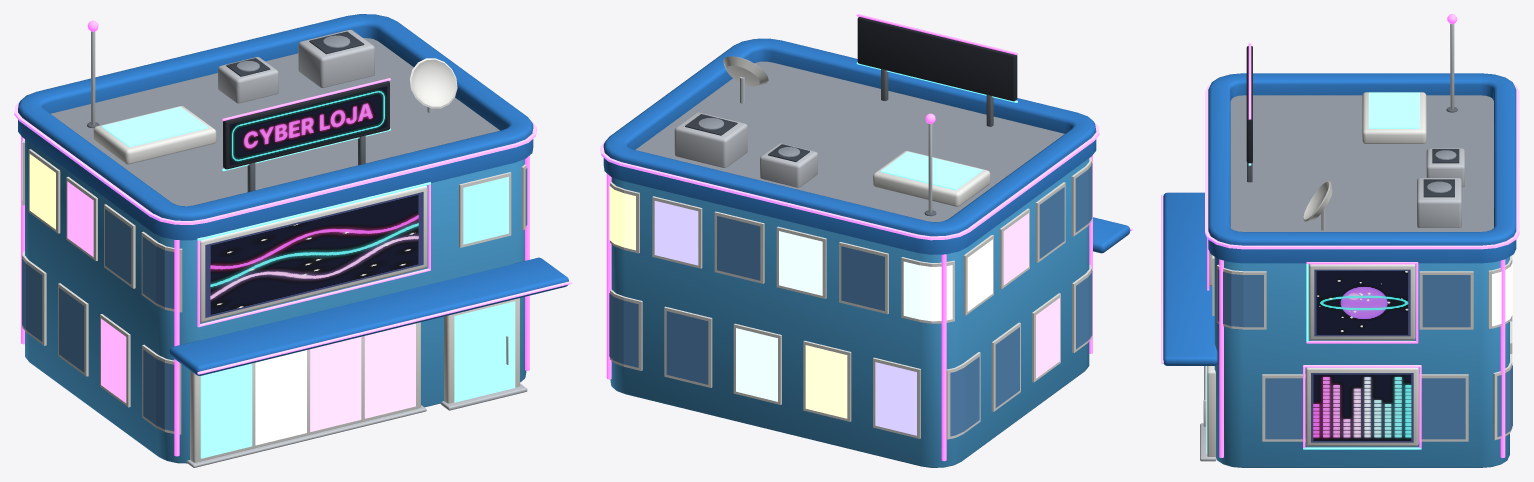
File: cyber_loja_telas_azul.glb
3 views of the same model, side by side, from view 1: azimuth 30°, elevation 25°; view 2: azimuth 150°, elevation 25°; view 3: azimuth 270°, elevation 25° (orthographic). The views are drawn at different scales.
Parts seen in each view (by area): view 1: cyber_loja_telas_azul; view 2: cyber_loja_telas_azul; view 3: cyber_loja_telas_azul.
Boxes of the visible parts, box(x1,y1,x2,y2) form: cyber_loja_telas_azul: box(14, 14, 571, 467); cyber_loja_telas_azul: box(600, 14, 1132, 467); cyber_loja_telas_azul: box(1161, 14, 1519, 467).
Size of the model in its own units: 12.6 by 10.8 by 11.16.
15 materials, 5 textured.
